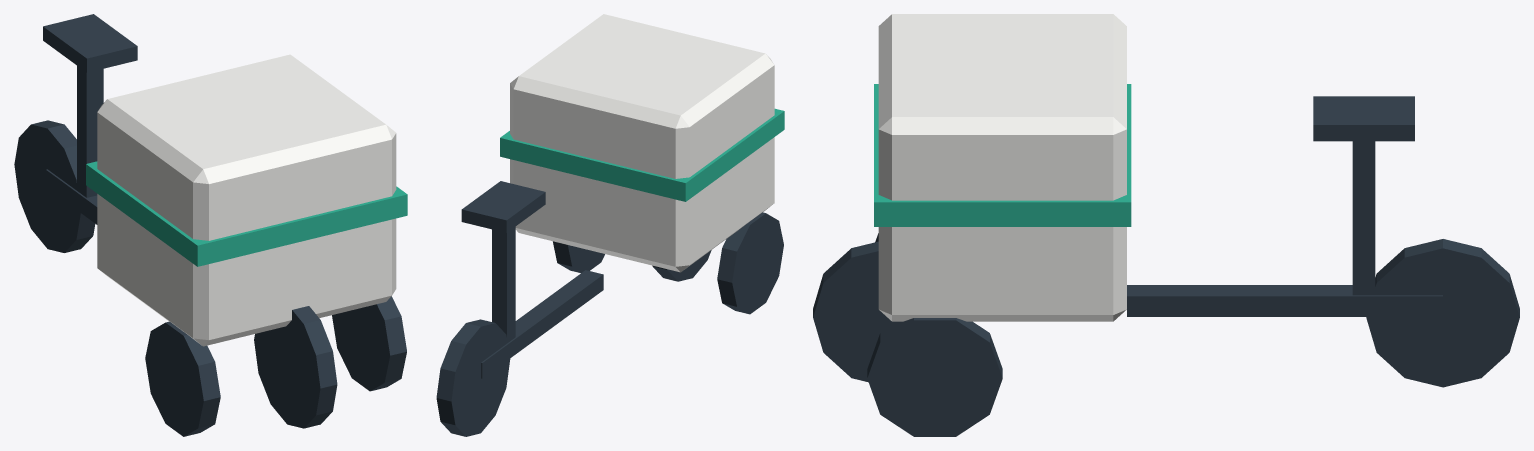
Rendered from bike.fbx.
The picture shows the model from 3 angles, left to right: view 1: azimuth 30°, elevation 25°; view 2: azimuth 150°, elevation 25°; view 3: azimuth 270°, elevation 25°; orthographic projection. The views are drawn at different scales.
Parts seen in each view (by area): view 1: bike; view 2: bike; view 3: bike.
Boxes of the visible parts, x1,y1,x2,y2 form: bike: (14,14,407,436); bike: (436,14,784,436); bike: (813,14,1519,436).
Bounding box in the file's own units: 1.24 × 1.55 × 3.13.
